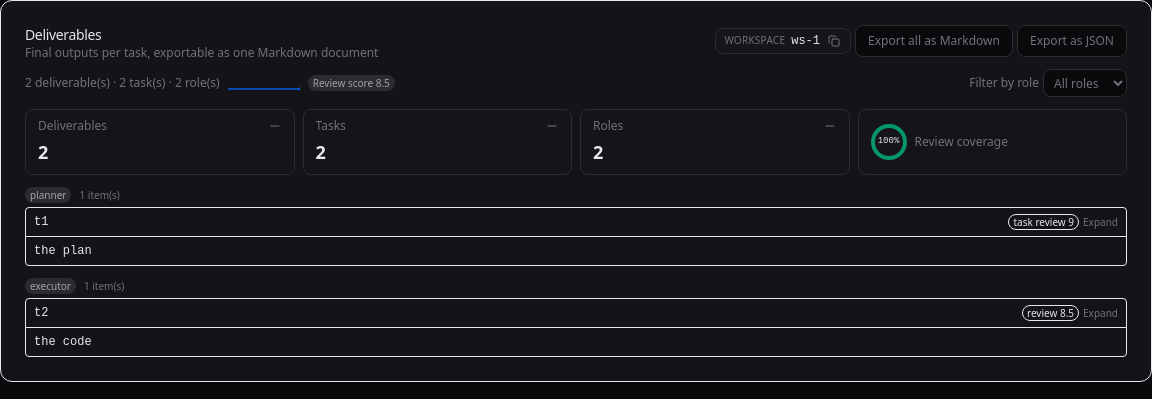
it: deliverables deepening — render smoke › exports JSON via the clipboard (filtered rows only)
Select "executor" in the dropdown labelled "Filter by role" at (1085, 83), box 1043,69 -> 1127,97
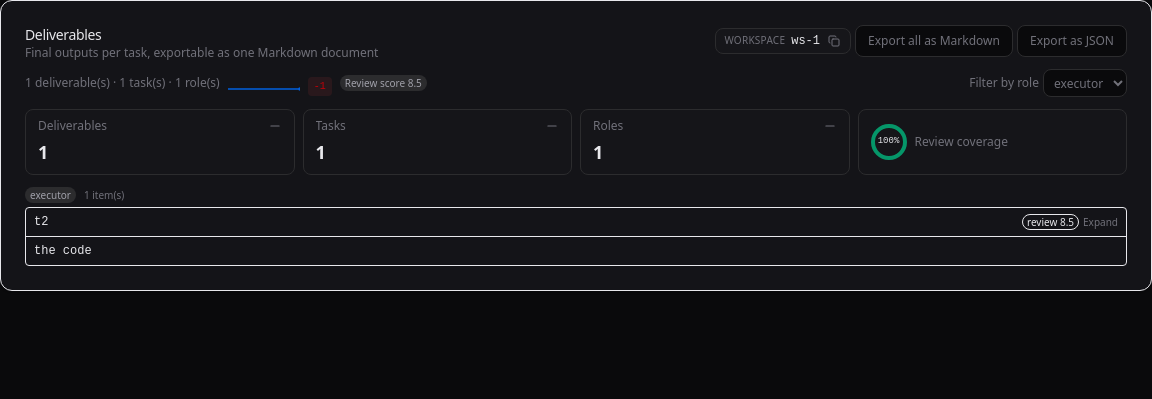
Click the button with test id "deliverables-export-json".
click(1072, 41)  # box 1017,25 -> 1127,57
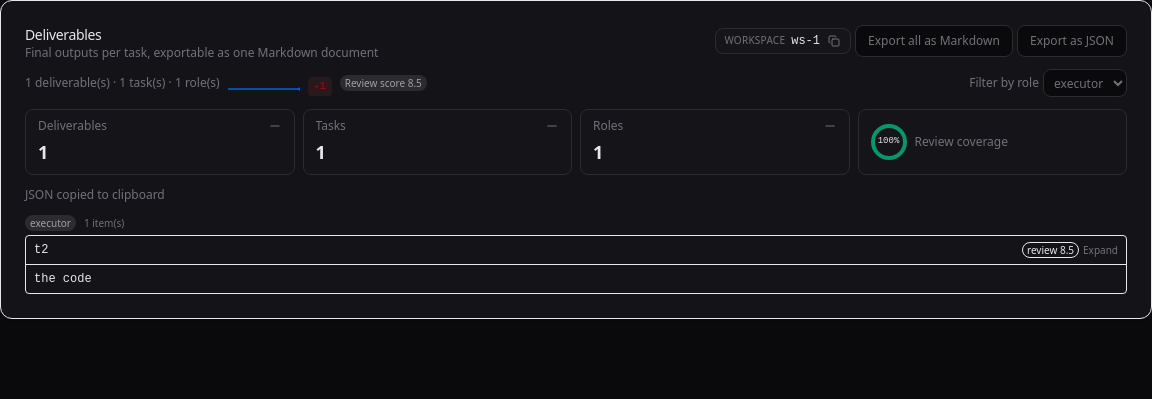
Check: the text "JSON copied to clipboard" is shown, box 25,186 -> 165,203
